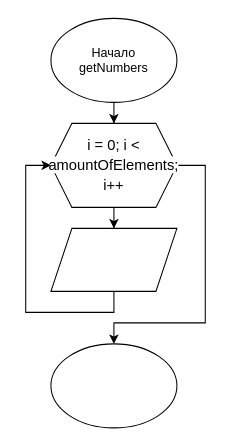
This 232x446 diagram has some shape labels left out. Here are the shapes that lost their labels. From the top down, the centre of each, then its label:
At (x=113, y=259): "array[i]".
At (x=113, y=385): "Конец".
